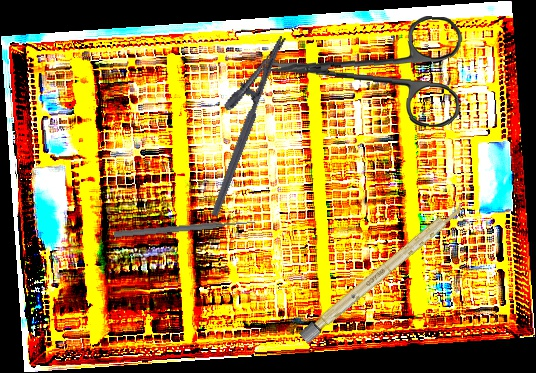Iris Scissors: (264, 7, 464, 129)
Needle Holder: (185, 26, 288, 217)
Pusher: (113, 217, 256, 240)
Scalpel Handle: (298, 200, 467, 344)
